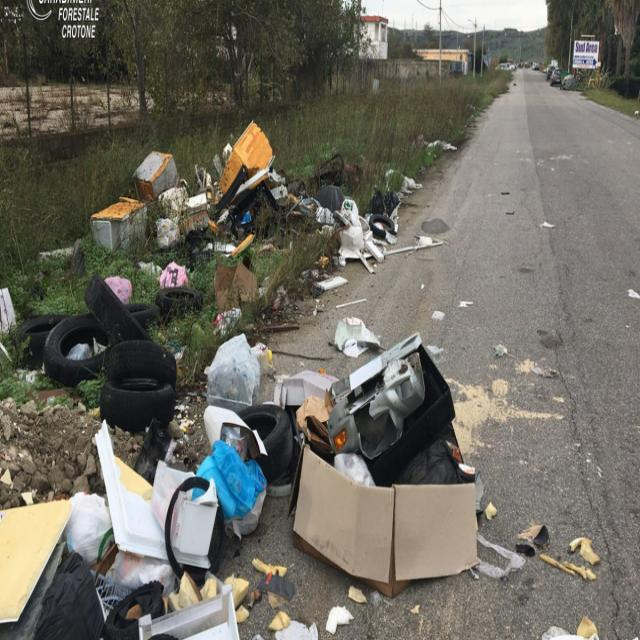garbage: (0, 277, 489, 640), (66, 115, 406, 278)
